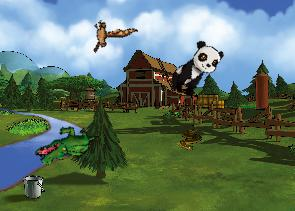crocodile: (32, 112, 100, 179)
eagle: (80, 5, 138, 63)
panda: (165, 36, 226, 103)
